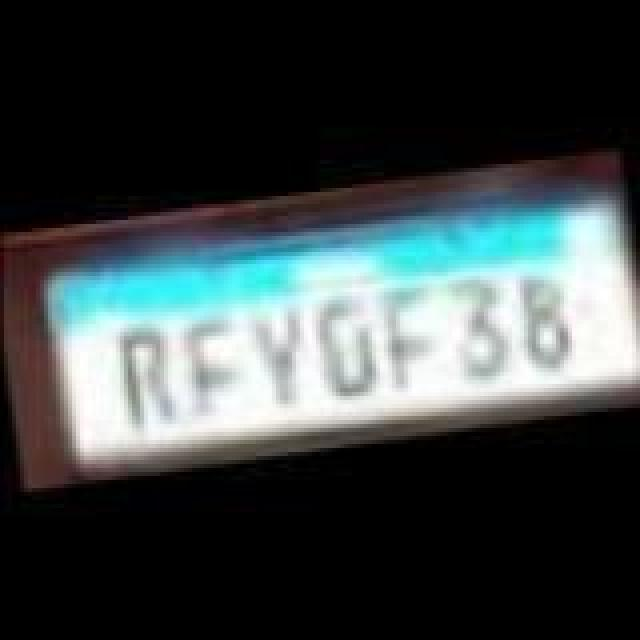3: (438, 270, 510, 382)
8: (512, 264, 580, 376)
D: (314, 294, 386, 410)
F: (180, 310, 256, 430), (378, 282, 442, 394)
R: (112, 322, 184, 438)
Y: (246, 302, 318, 418)
